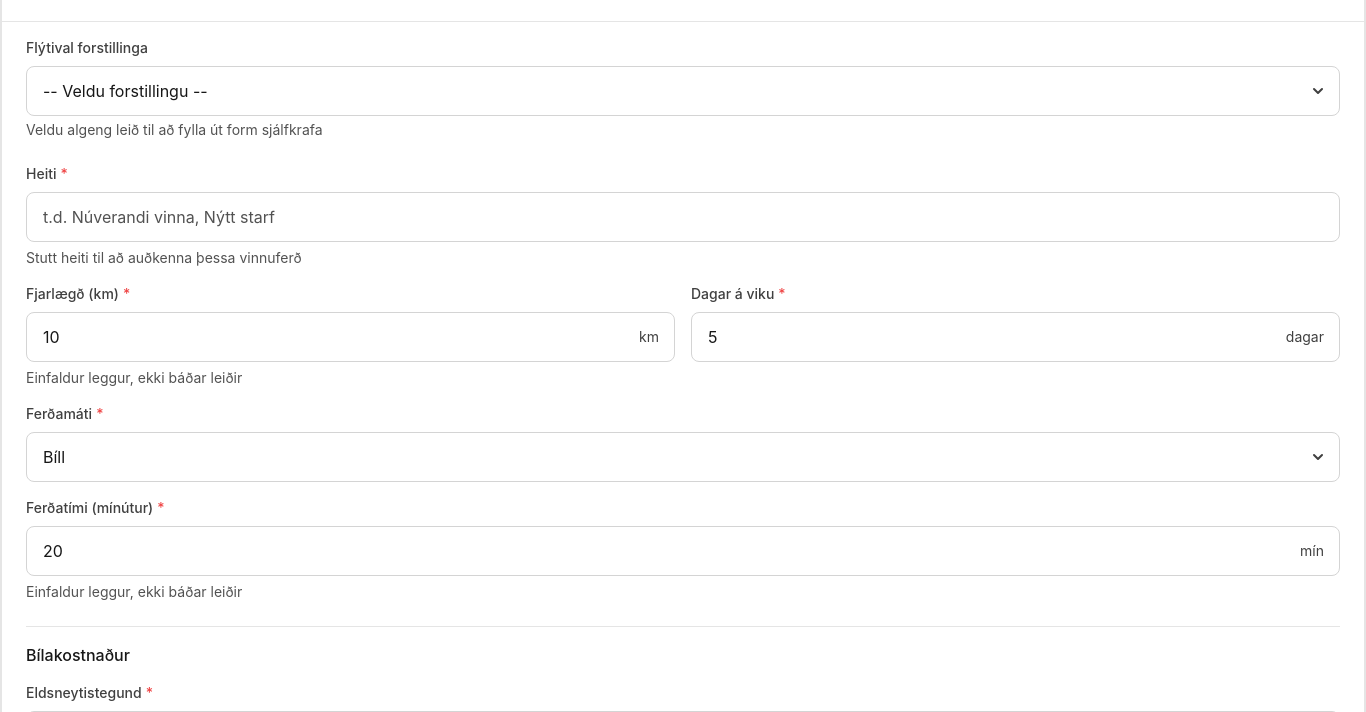
Scenario: CommuteForm › Conditional Fields › should show per-ride cost field when per-ride ticket is selected
Select "Almenningssamgöngur" in the dropdown labelled "Ferðamáti*" at (683, 457), box [26,432,1340,482]
(page scrolled)
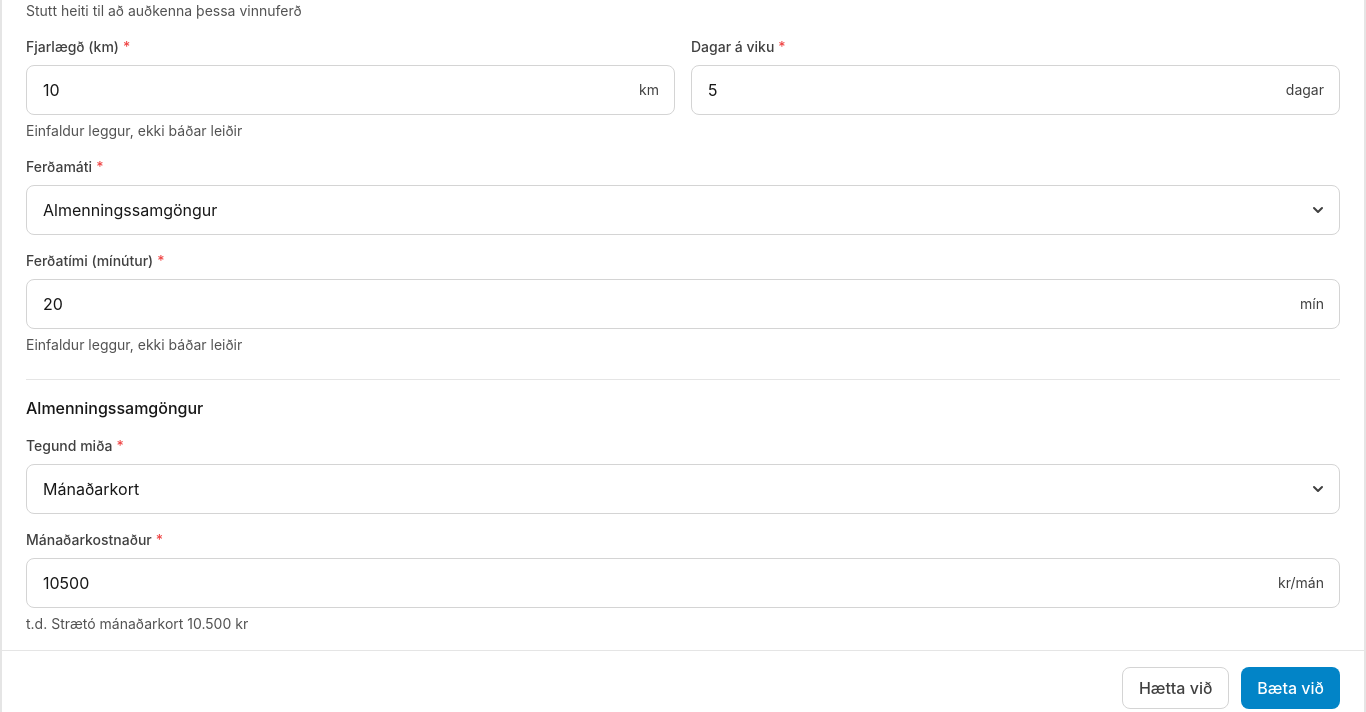
Select "Stakir farmiðar" in the dropdown labelled "Tegund miða*" at (683, 489), box [26,464,1340,514]
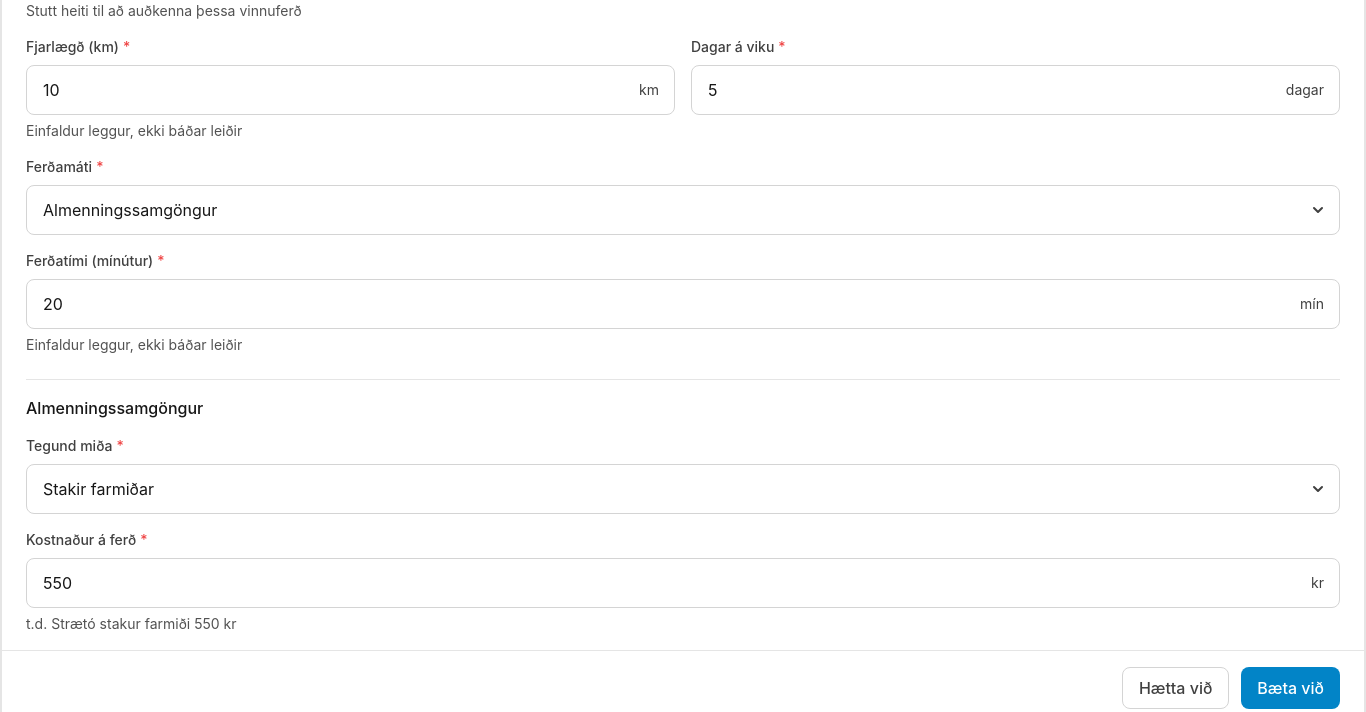
Expected: the number field labelled "Kostnaður á ferð*" is shown, [26,558,1340,608]
